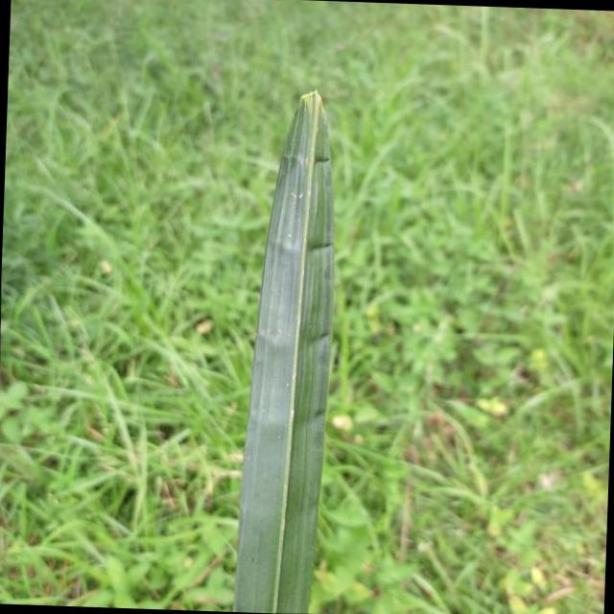Boron: (233, 73, 340, 614)
